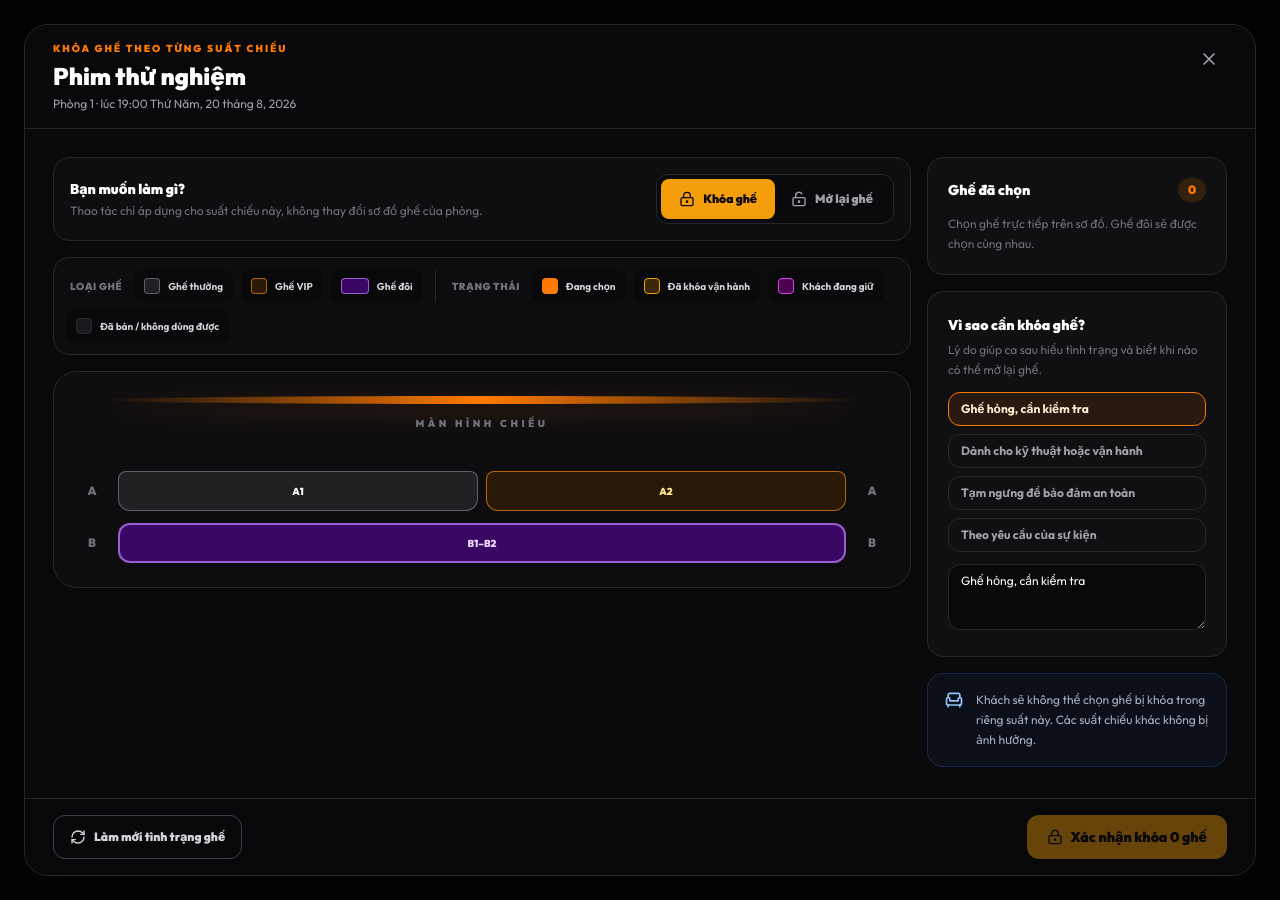
it: ShowtimeSeatControlDrawer › centers the dialog and presents seat types consistently with the customer layout
Check: the text "Ghế thường" is shown, box [134,270,233,302]
Check: the text "Ghế VIP" is shown, box [241,270,323,302]
Click the button named "Ghế đôi B1–B2 · Ghế đôi".
click(482, 543)  # box [118,523,846,563]
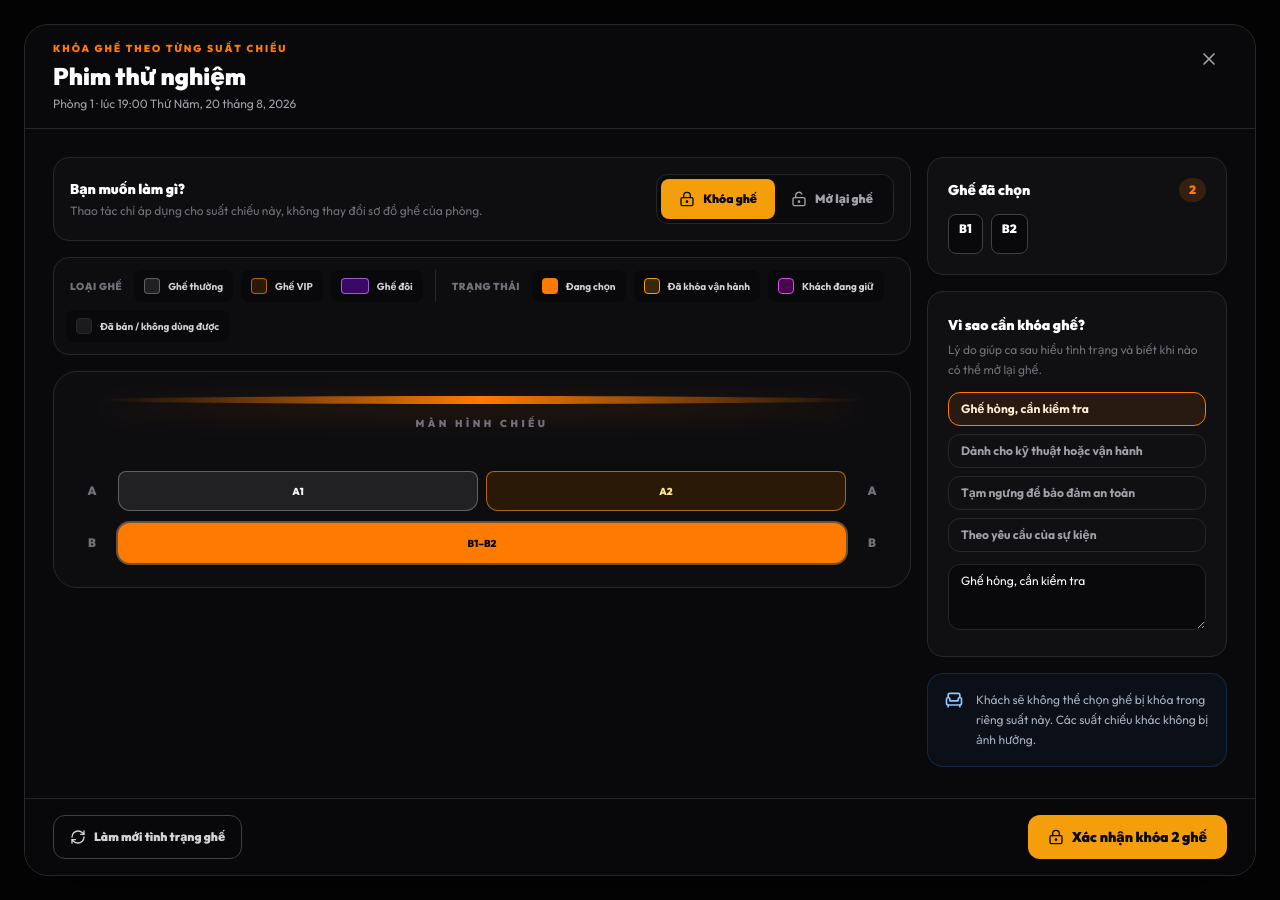
Check: the button "Xác nhận khóa 2 ghế" is enabled, box [1028,815,1227,859]
